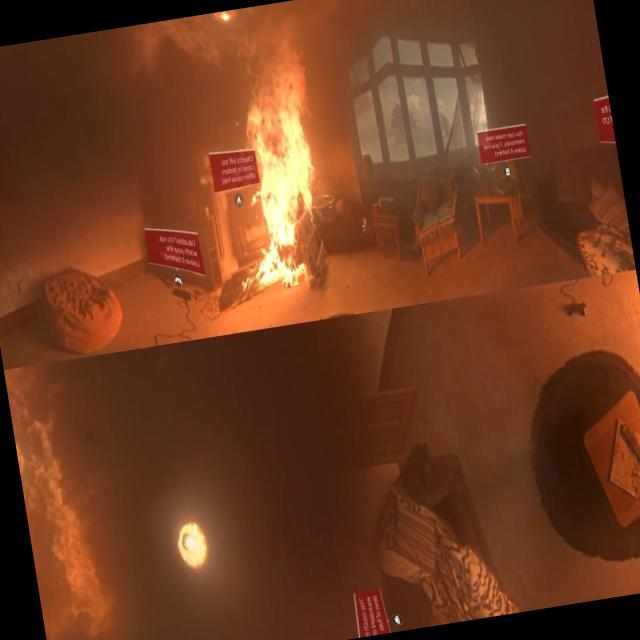fire: (220, 32, 340, 286)
